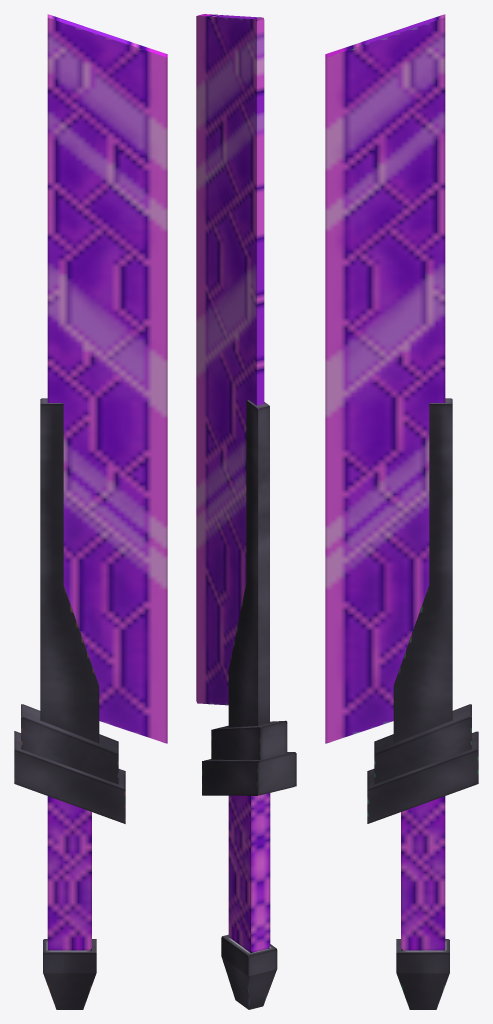
File: pixel_sword5_lowpoly.fbx
3 views of the same model, side by side, from view 1: azimuth 90°, elevation 25°; view 2: azimuth 210°, elevation 25°; view 3: azimuth 270°, elevation 25° (orthographic).
Parts seen in each view (by area): view 1: pixel_sword5_blade, pixel_sword5_handle; view 2: pixel_sword5_blade, pixel_sword5_handle; view 3: pixel_sword5_blade, pixel_sword5_handle.
Boxes of the visible parts, x1,y1,x2,y2 form: pixel_sword5_blade: (47, 14, 167, 743); pixel_sword5_handle: (14, 398, 125, 1009); pixel_sword5_blade: (196, 14, 264, 705); pixel_sword5_handle: (202, 400, 296, 1009); pixel_sword5_blade: (325, 14, 445, 743); pixel_sword5_handle: (367, 398, 478, 1009).
Bounding box in the file's own units: 12.5 × 307 × 43.12.
Materials: 2 (2 with a texture image).
